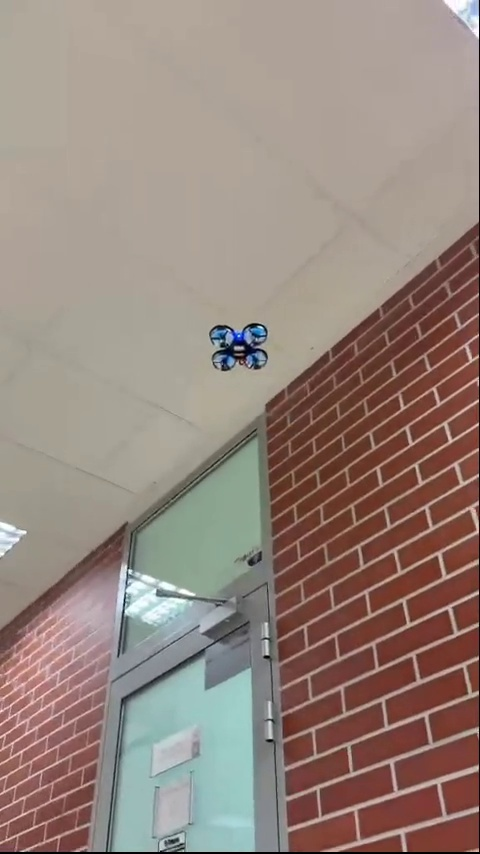drone: (209, 321, 277, 376)
